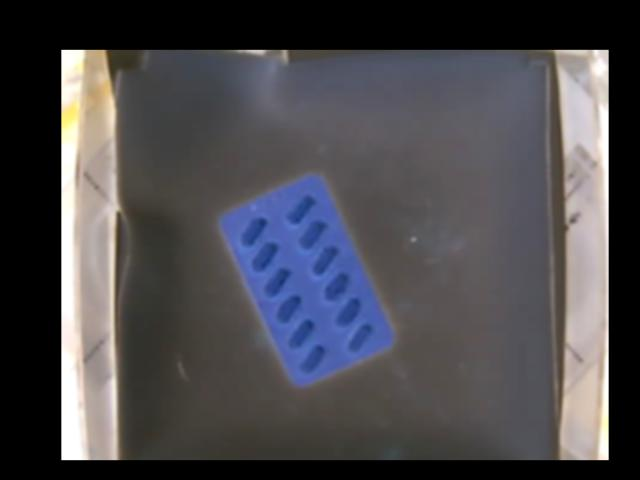Medicine: (221, 173, 391, 387)
